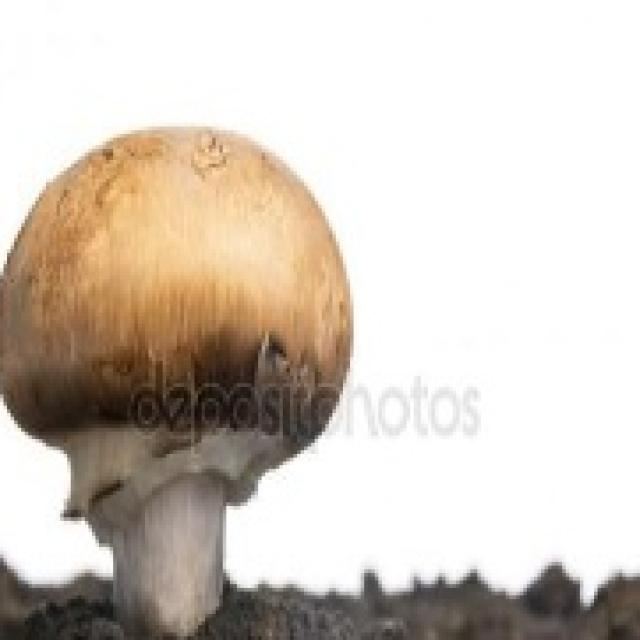mushroom: (0, 119, 354, 640)
